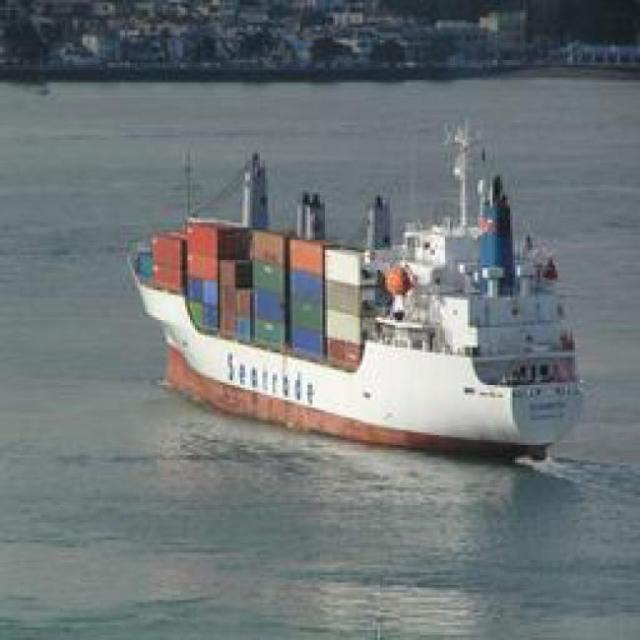boat: (130, 189, 610, 482)
